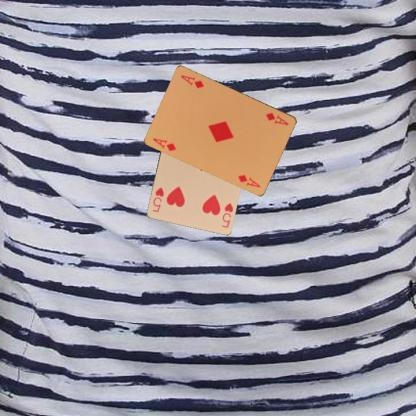5h: (219, 200, 234, 229)
Ad: (151, 135, 177, 153), (264, 110, 290, 126)
